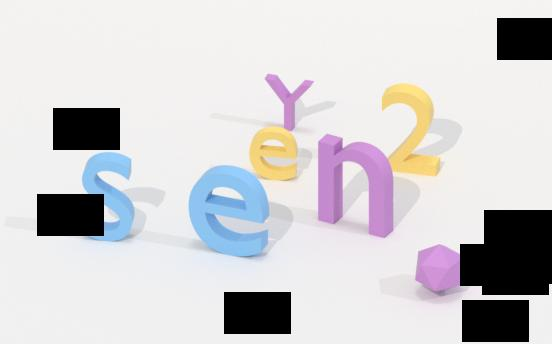2: (371, 74, 449, 186)
Y-hoa: (264, 71, 315, 135)
dagiac: (413, 236, 465, 297)
e: (183, 160, 273, 261), (249, 125, 299, 180)
n: (315, 131, 397, 245)
s: (74, 145, 139, 249)
